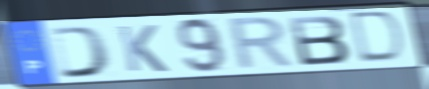9: (176, 16, 230, 76)
B: (286, 14, 352, 68)
D: (48, 25, 113, 80), (349, 9, 408, 65)
K: (114, 23, 171, 74)
R: (226, 14, 298, 73)
